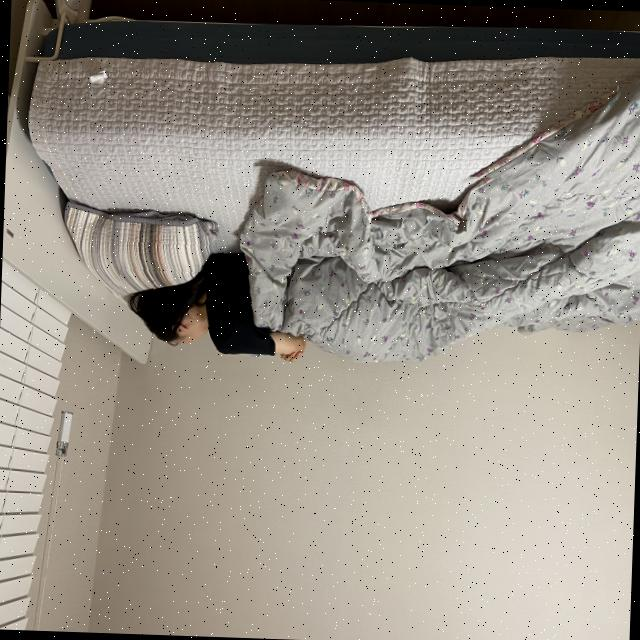people: (113, 159, 640, 381)
